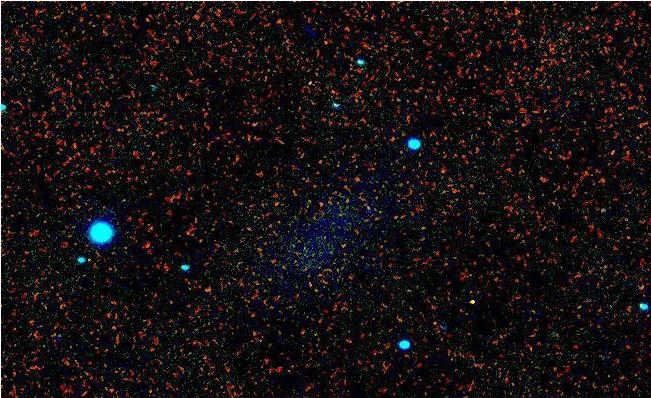star: (452, 284, 482, 314)
